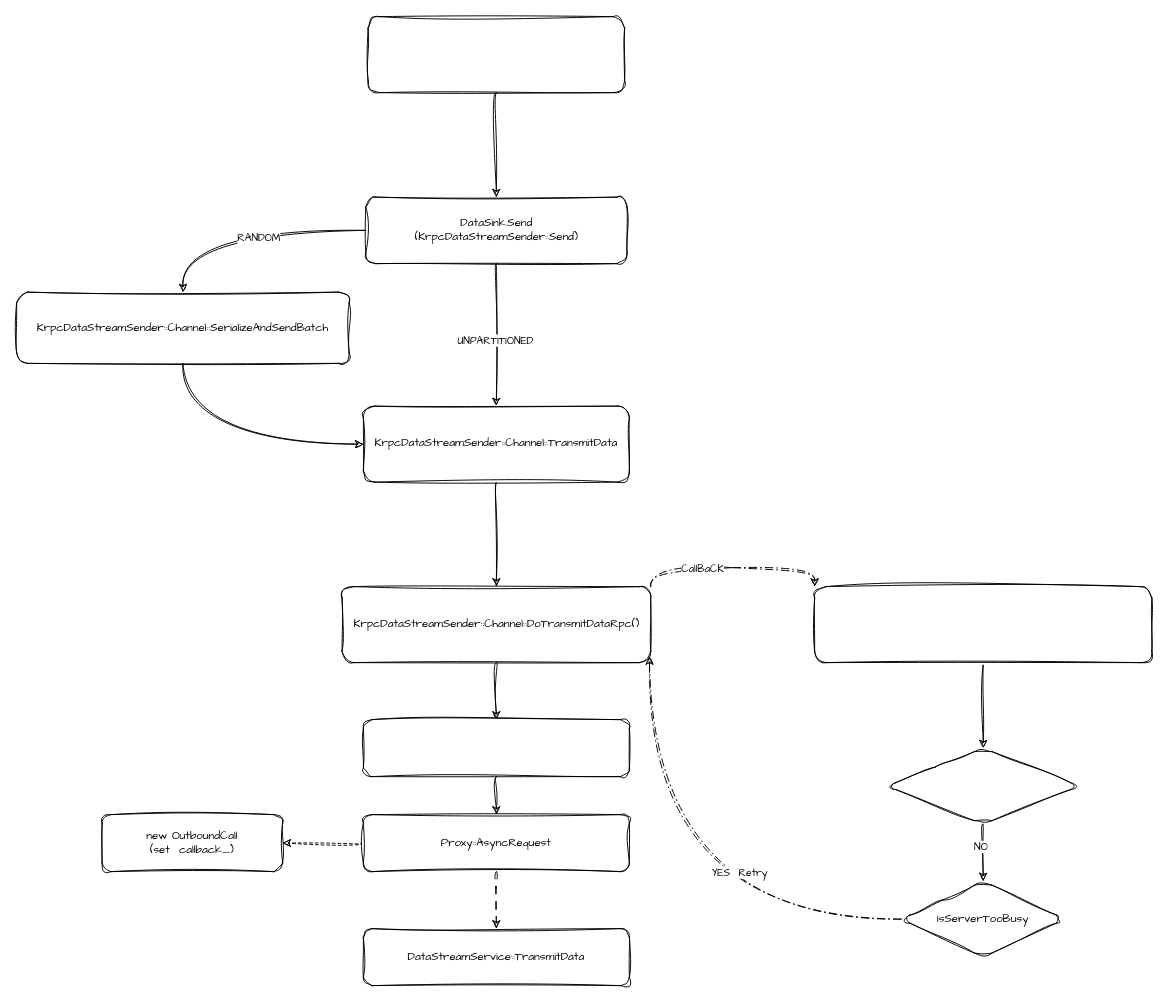
This 1169x1002 diagram has some shape labels left out. The box of each missing label's shape, as (x1, y1, x2, y2) in pixels:
controller_status.ok ?: (886, 747, 1079, 824)
DataStreamServiceProxy::TransmitDataAsync: (362, 719, 629, 777)
FragmentInstanceState::ExecInternal: (367, 16, 625, 93)
KrpcDataStreamSender::Channel::TransmitDataCompleteCb: (814, 586, 1152, 663)
